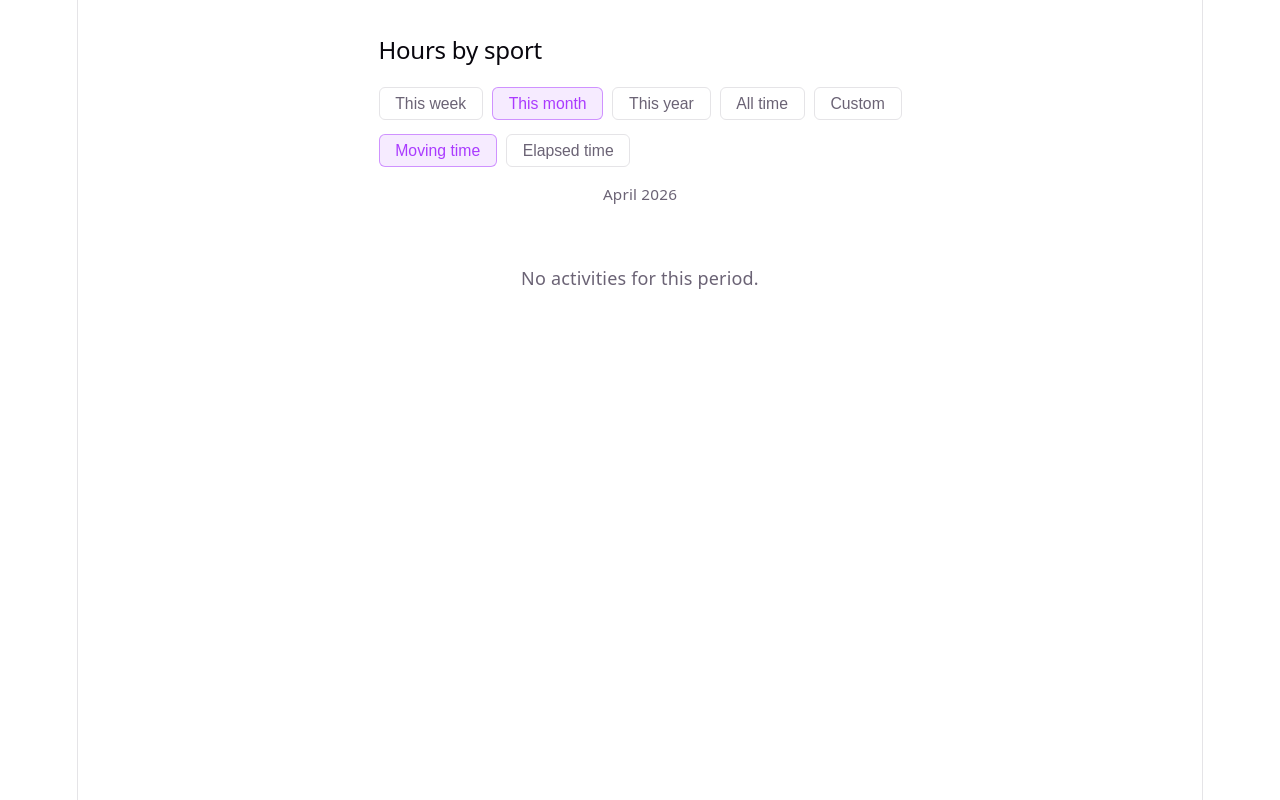
Dashboard › shows date inputs when "Custom" is selected
The width and height of the screenshot is (1280, 800).
Click the button "Custom" at {"x": 858, "y": 104}, box [814,87,902,120]
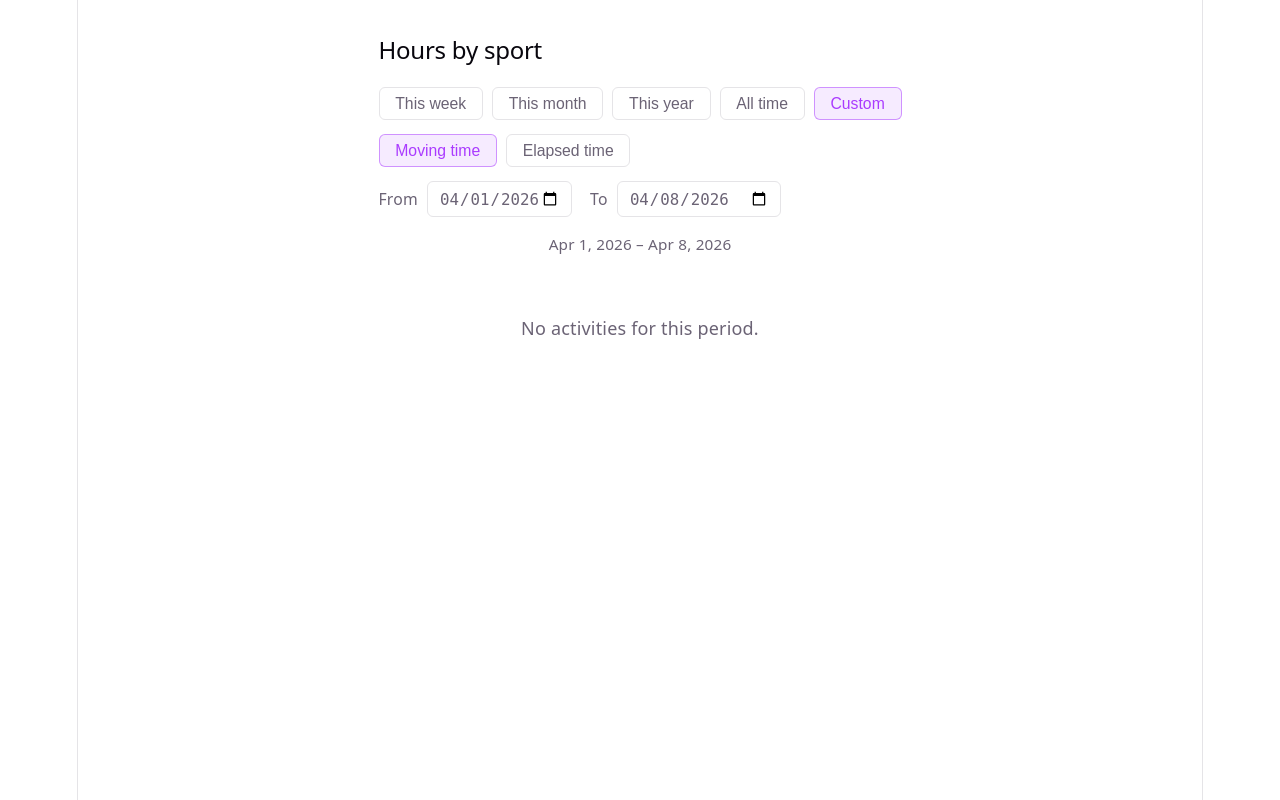
Check: the number of date fields showing "From" is 2, box [427,181,572,217]; [617,181,781,217]
